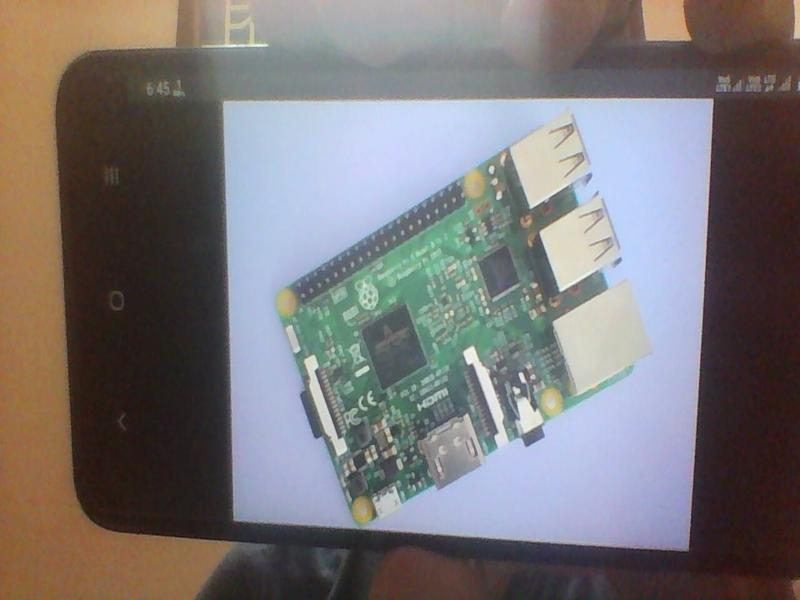aud: (501, 367, 548, 452)
eth: (554, 297, 660, 392)
usb: (506, 109, 591, 205), (537, 200, 625, 289)
